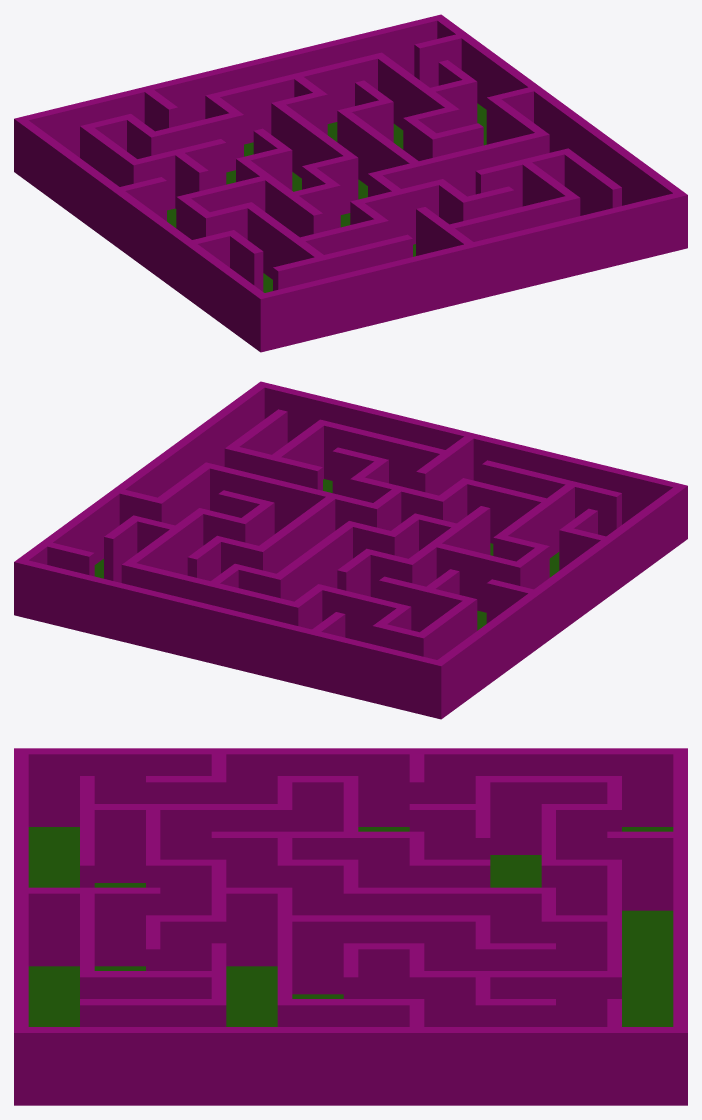
File: Level17Ground.FBX
The picture shows the model from 3 angles, top to bottom: view 1: azimuth 30°, elevation 25°; view 2: azimuth 150°, elevation 25°; view 3: azimuth 270°, elevation 25°; orthographic projection. The views are drawn at different scales.
Parts seen in each view (by area): view 1: Labyrinth002; view 2: Labyrinth002; view 3: Labyrinth002.
Boxes of the visible parts, x1,y1,x2,y2 form: Labyrinth002: (14, 14, 687, 352); Labyrinth002: (14, 381, 687, 719); Labyrinth002: (14, 748, 687, 1105).
Bounding box in the file's own units: 235 × 28 × 235.
